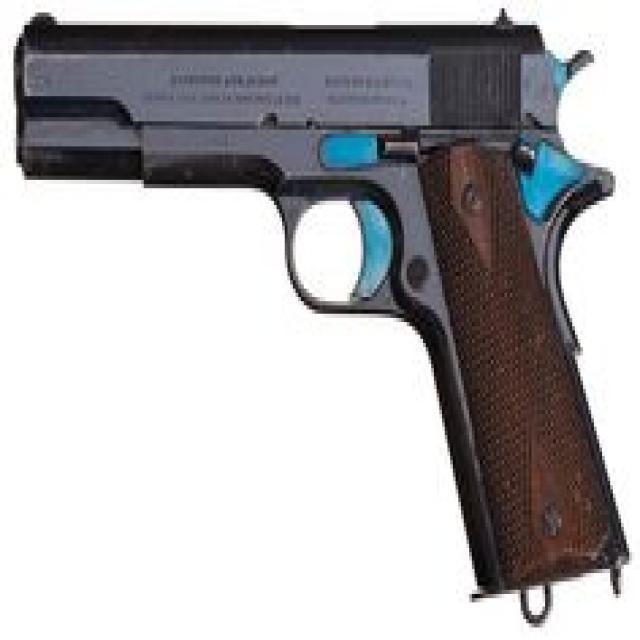semi automatic: (7, 5, 630, 638)
